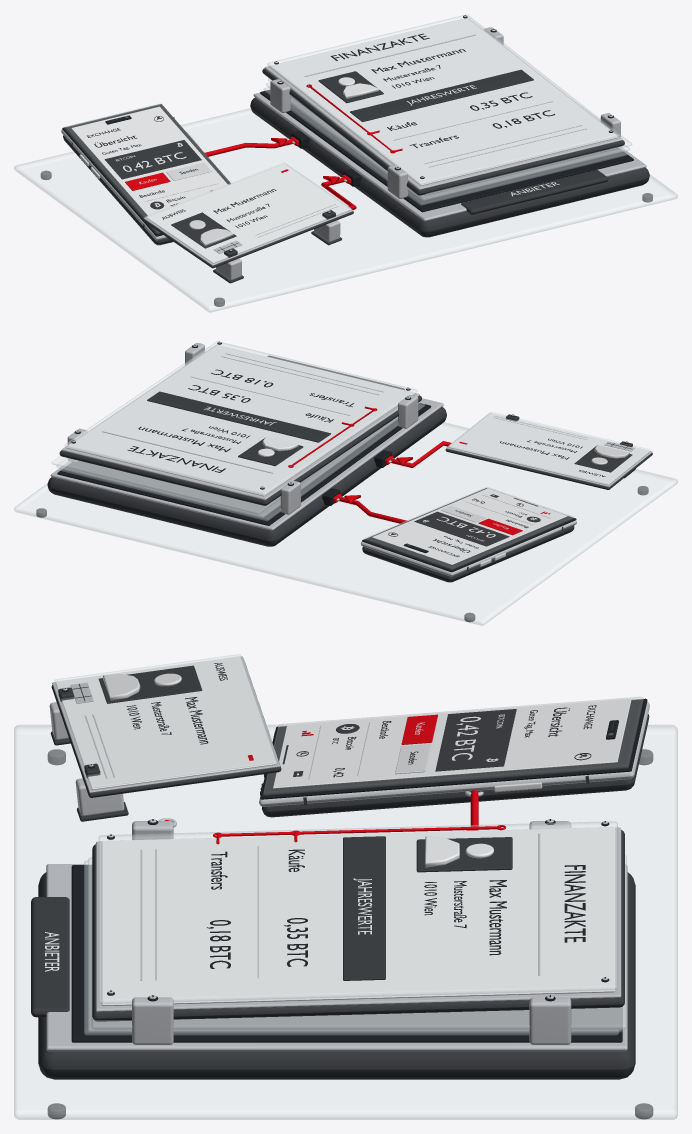
Rendered from account-to-record.glb.
3 views of the same model, one above another, from view 1: azimuth 30°, elevation 25°; view 2: azimuth 150°, elevation 25°; view 3: azimuth 270°, elevation 25° (orthographic). The views are drawn at different scales.
Parts seen in each view (by area): view 1: Clear processing and association carrier, Annual record optical face, Annual record ceramic print backing, Identity card optical laminate, Neutral white identity card, Phone exchange display, Provider graphite processing cradle, Provider annual dossier recess, Individually assembled glass annual-record layer, Annual totals graphite header, Provider titanium perimeter, Annual record graphite substrate (+17 smaller); view 2: Clear processing and association carrier, Annual record optical face, Annual record ceramic print backing, Provider graphite processing cradle, Neutral white identity card, Identity card optical laminate, Provider annual dossier recess, Phone exchange display, Individually assembled glass annual-record layer.001, Provider titanium perimeter, Individually assembled glass annual-record layer, Individually assembled glass annual-record layer.002 (+14 smaller); view 3: Annual record optical face, Annual record ceramic print backing, Clear processing and association carrier, Provider graphite processing cradle, Neutral white identity card, Identity card optical laminate, Provider annual dossier recess, Phone exchange display, Individually assembled glass annual-record layer.001, Provider titanium perimeter, Individually assembled glass annual-record layer.002, Annual totals graphite header (+23 smaller).
Boxes of the visible parts, x1,y1,x2,y2 form: Clear processing and association carrier: (14, 108, 677, 312); Annual record optical face: (267, 14, 619, 184); Annual record ceramic print backing: (269, 18, 617, 185); Identity card optical laminate: (146, 162, 351, 262); Neutral white identity card: (146, 164, 350, 263); Phone exchange display: (71, 106, 227, 215); Provider graphite processing cradle: (250, 97, 649, 237); Provider annual dossier recess: (260, 89, 633, 212); Individually assembled glass annual-record layer: (263, 87, 627, 205); Annual totals graphite header: (350, 69, 533, 121); Provider titanium perimeter: (253, 92, 646, 221); Annual record graphite substrate: (262, 68, 624, 195); Clear processing and association carrier: (14, 422, 677, 625); Annual record optical face: (65, 341, 416, 494); Annual record ceramic print backing: (66, 345, 415, 496); Provider graphite processing cradle: (47, 407, 446, 546); Neutral white identity card: (448, 413, 650, 485); Identity card optical laminate: (448, 412, 650, 484); Provider annual dossier recess: (57, 403, 431, 525); Phone exchange display: (372, 488, 567, 564); Individually assembled glass annual-record layer.001: (56, 401, 420, 517); Provider titanium perimeter: (50, 398, 443, 530); Individually assembled glass annual-record layer: (61, 403, 424, 520); Individually assembled glass annual-record layer.002: (52, 347, 324, 514); Annual record optical face: (99, 821, 617, 1003); Annual record ceramic print backing: (101, 827, 615, 1006); Clear processing and association carrier: (14, 725, 677, 1119); Provider graphite processing cradle: (38, 872, 635, 1079); Neutral white identity card: (55, 656, 276, 789); Identity card optical laminate: (54, 654, 276, 788); Provider annual dossier recess: (71, 865, 622, 1042); Phone exchange display: (273, 699, 631, 788); Individually assembled glass annual-record layer.001: (88, 858, 622, 1031); Provider titanium perimeter: (46, 864, 627, 1051); Individually assembled glass annual-record layer.002: (92, 855, 626, 1029); Annual totals graphite header: (343, 836, 385, 980).
Size of the model in its own units: 8.15 by 1.19 by 5.88.
3 materials, 3 textured.
